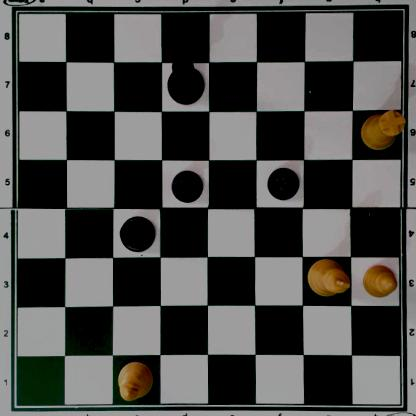black-king: (167, 53, 204, 104)
black-pawn: (169, 169, 204, 203), (266, 166, 300, 200)
black-rook: (119, 215, 156, 251)
white-bishop: (115, 359, 152, 401)
white-king: (307, 257, 351, 298)
white-pawn: (362, 264, 398, 297)
white-rook: (360, 109, 407, 149)
